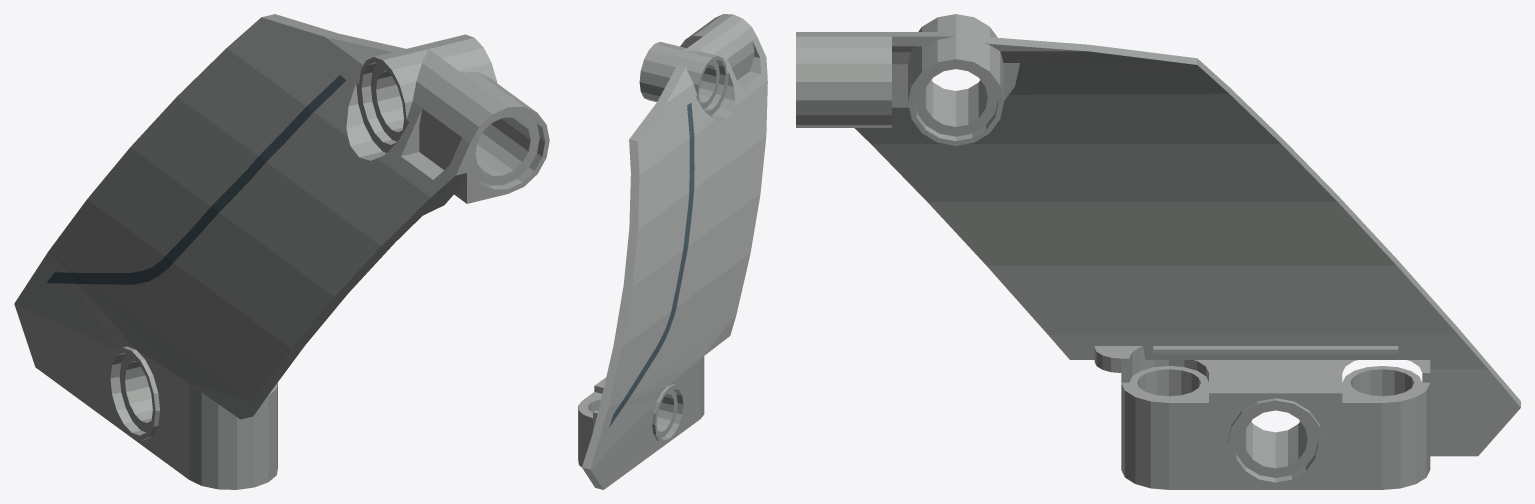
The picture shows the model from 3 angles, left to right: view 1: azimuth 30°, elevation 25°; view 2: azimuth 150°, elevation 25°; view 3: azimuth 270°, elevation 25°; orthographic projection. The views are drawn at different scales.
Parts seen in each view (by area): view 1: world; view 2: world; view 3: world.
Part boxes in pixels (<box>): world: <box>14,14,549,489</box>; world: <box>578,14,767,489</box>; world: <box>796,14,1520,489</box>.
Bounding box in the file's own units: 0.016 × 0.0396 × 0.0544.
